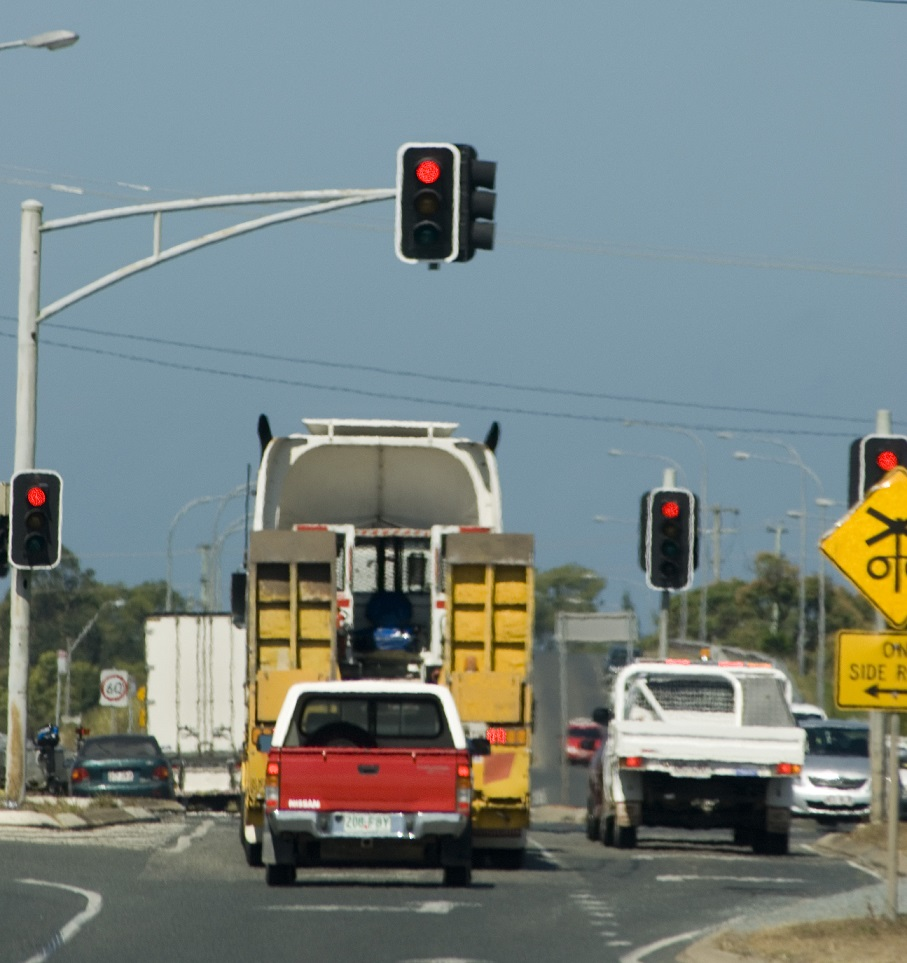traffic_light: (391, 138, 463, 266), (6, 468, 66, 572), (647, 487, 695, 592)
